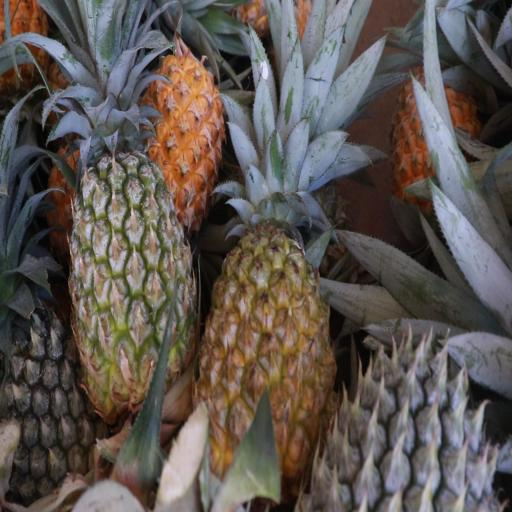------------------------------: (66, 128, 197, 406)
Pineapple - v8 v1: (199, 188, 333, 476), (82, 42, 226, 188), (394, 78, 479, 194)
